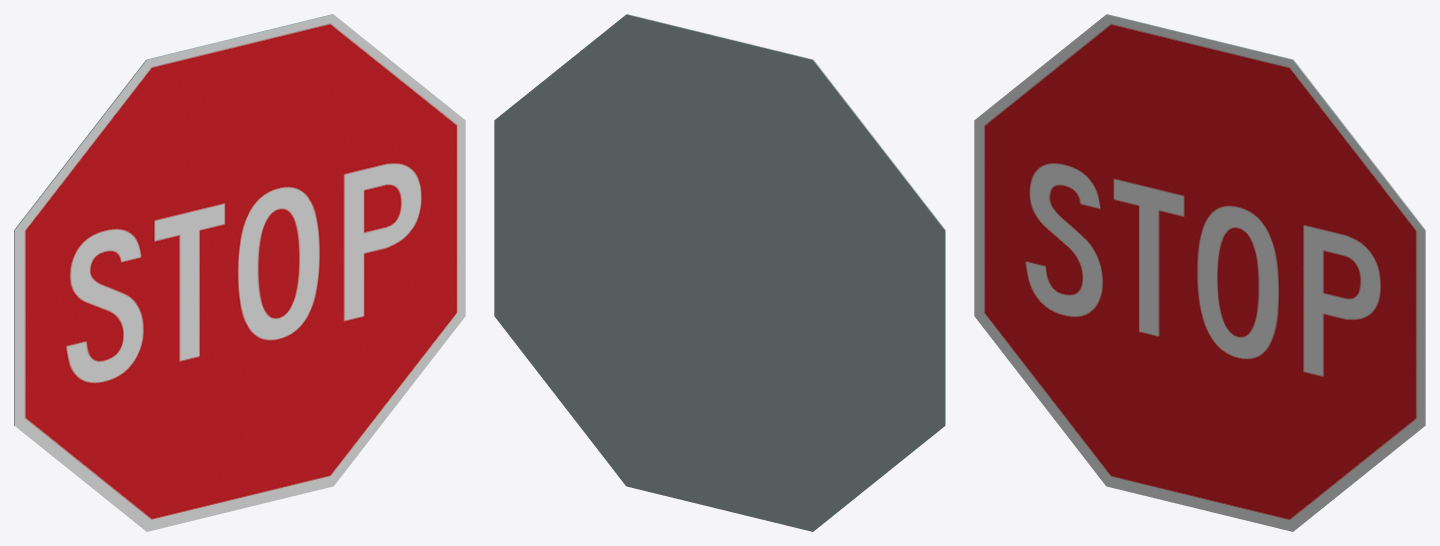
The model's file is stop_sign.fbx.
The picture shows the model from 3 angles, left to right: view 1: azimuth 30°, elevation 25°; view 2: azimuth 150°, elevation 25°; view 3: azimuth 330°, elevation 25°; orthographic projection.
Parts seen in each view (by area): view 1: Cylinder; view 2: Cylinder; view 3: Cylinder.
Part boxes in pixels (<box>): Cylinder: <box>14,14,465,531</box>; Cylinder: <box>494,14,945,531</box>; Cylinder: <box>974,14,1425,531</box>.
Size of the model in its own units: 60 by 60 by 0.16.
